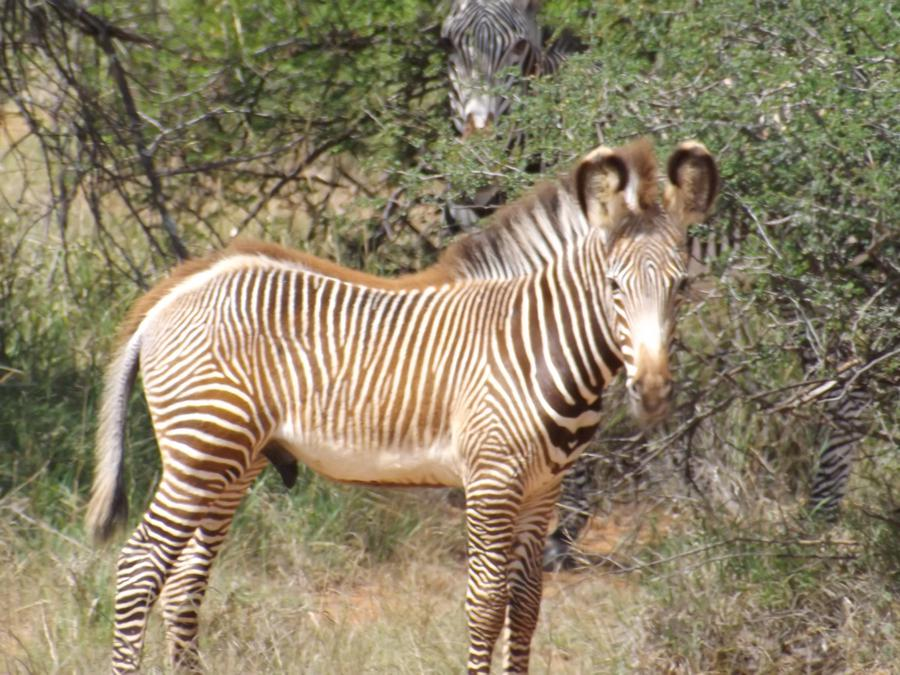zebra_grevys: (121, 215, 538, 493)
